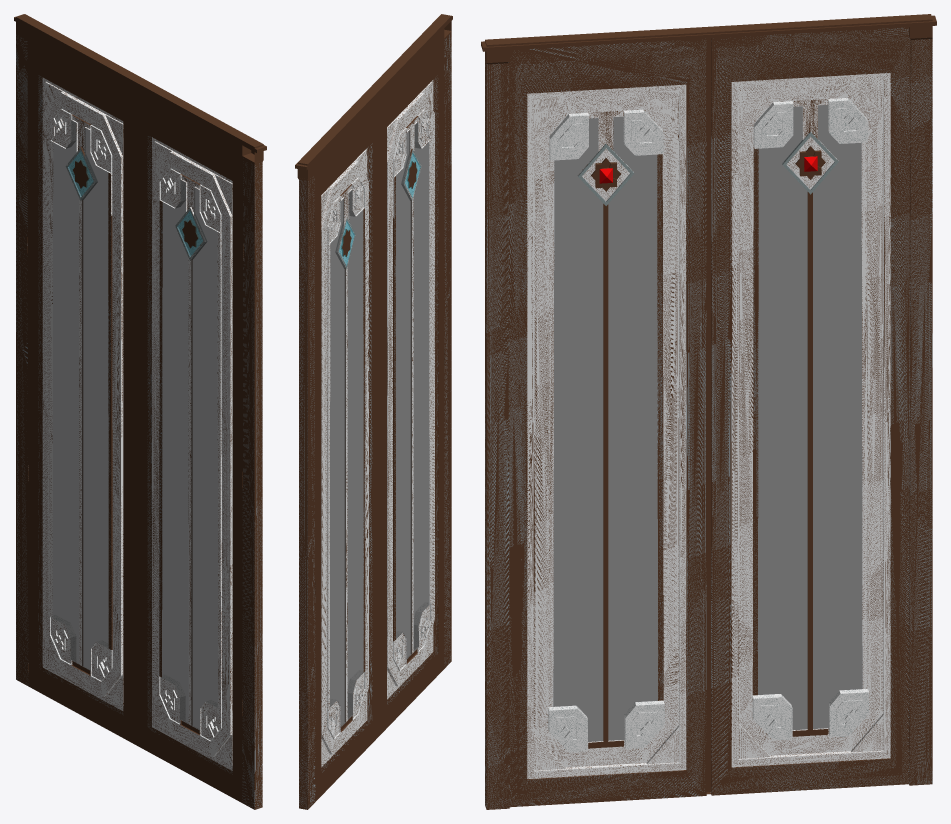
Rendered from Ventana.fbx.
3 views of the same model, side by side, from view 1: azimuth 30°, elevation 25°; view 2: azimuth 150°, elevation 25°; view 3: azimuth 270°, elevation 25° (orthographic). The views are drawn at different scales.
Visible parts, largest first — view 1: Component_20_1, Component_6_1, Component_6_2, Component_5_7; view 2: Component_20_1, Component_6_2, Component_6_1, Component_5_4, Component_5_3; view 3: Component_20_1, Component_5_7, Component_5_6, Component_5_8, Component_5_3, Component_5_5, Component_5_4, Component_5_2, Component_5_1, Component_6_1, Component_6_2.
Boxes of the visible parts, x1=… form: Component_20_1: x1=14, y1=14, x2=266, y2=809; Component_6_1: x1=65, y1=147, x2=97, y2=200; Component_6_2: x1=175, y1=207, x2=206, y2=260; Component_5_7: x1=159, y1=675, x2=185, y2=724; Component_20_1: x1=295, y1=14, x2=452, y2=809; Component_6_2: x1=401, y1=149, x2=421, y2=200; Component_6_1: x1=335, y1=217, x2=355, y2=269; Component_5_4: x1=414, y1=602, x2=431, y2=651; Component_5_3: x1=348, y1=670, x2=365, y2=719; Component_20_1: x1=481, y1=14, x2=936, y2=809; Component_5_7: x1=624, y1=700, x2=664, y2=749; Component_5_6: x1=829, y1=689, x2=868, y2=737; Component_5_8: x1=753, y1=101, x2=793, y2=148; Component_5_3: x1=752, y1=694, x2=792, y2=740; Component_5_5: x1=549, y1=112, x2=588, y2=160; Component_5_4: x1=548, y1=705, x2=587, y2=752; Component_5_2: x1=623, y1=109, x2=663, y2=155; Component_5_1: x1=828, y1=98, x2=867, y2=143; Component_6_1: x1=782, y1=132, x2=838, y2=194; Component_6_2: x1=578, y1=144, x2=634, y2=205.
Bounding box in the file's own units: 0.232 × 2.56 × 1.38.
